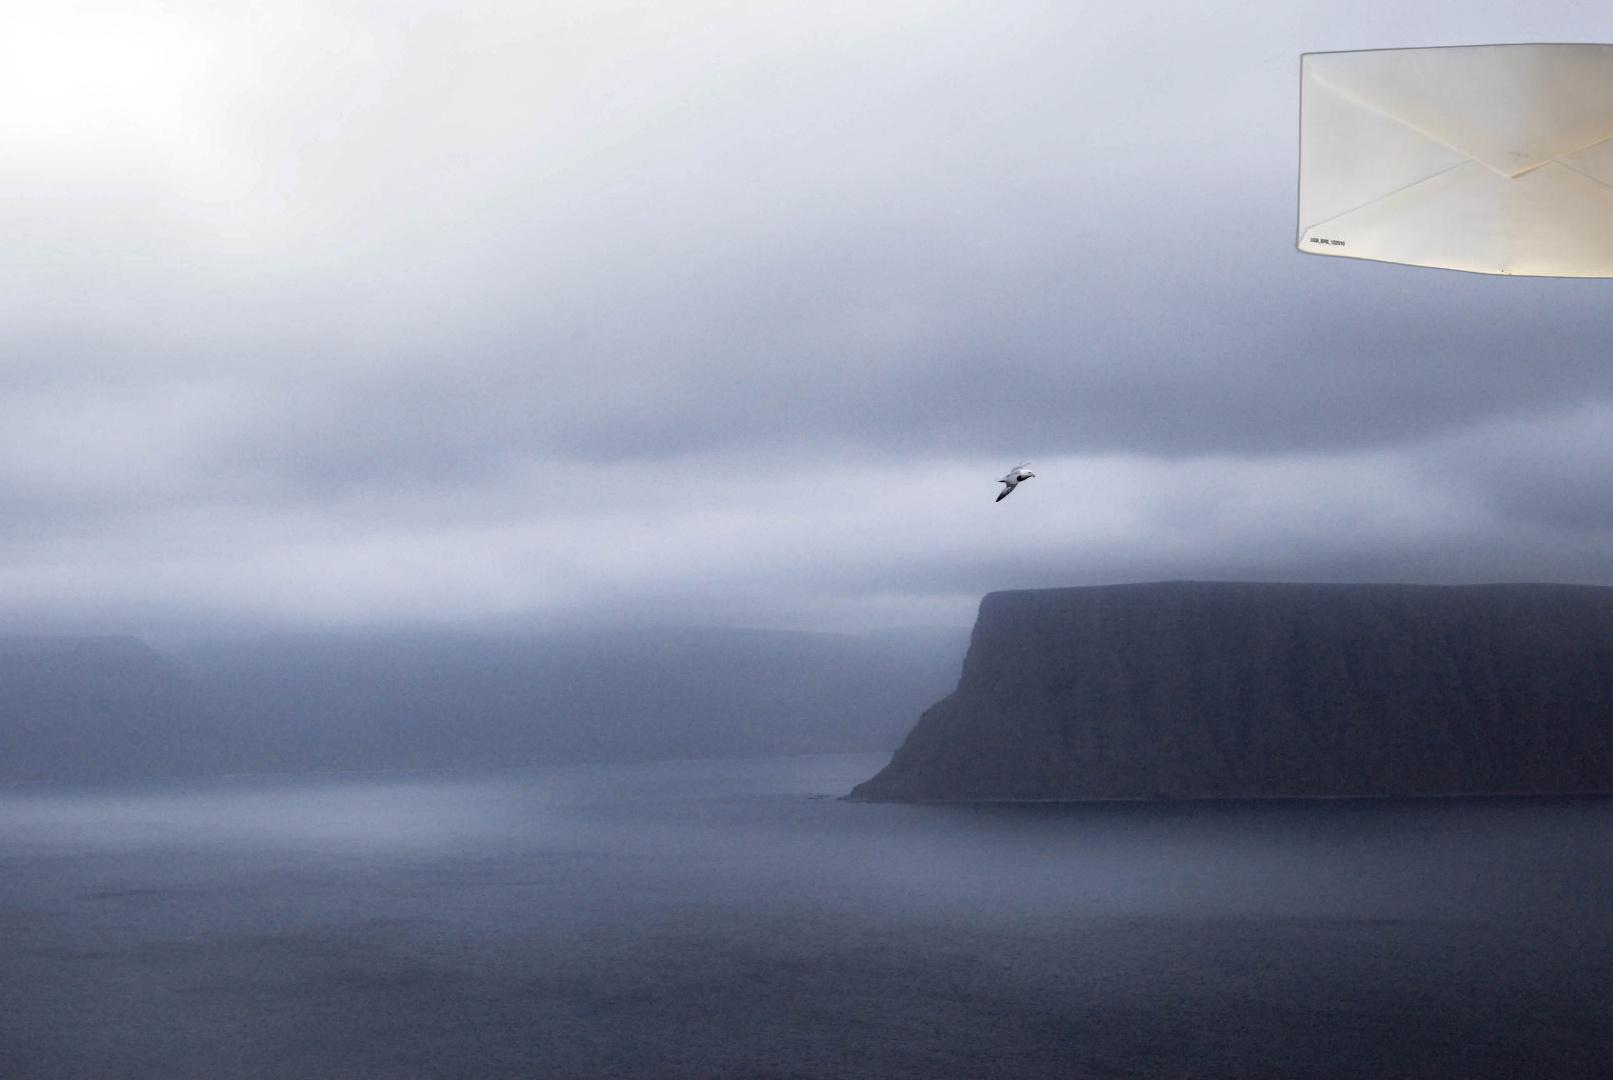paper: (1291, 40, 1613, 282)
